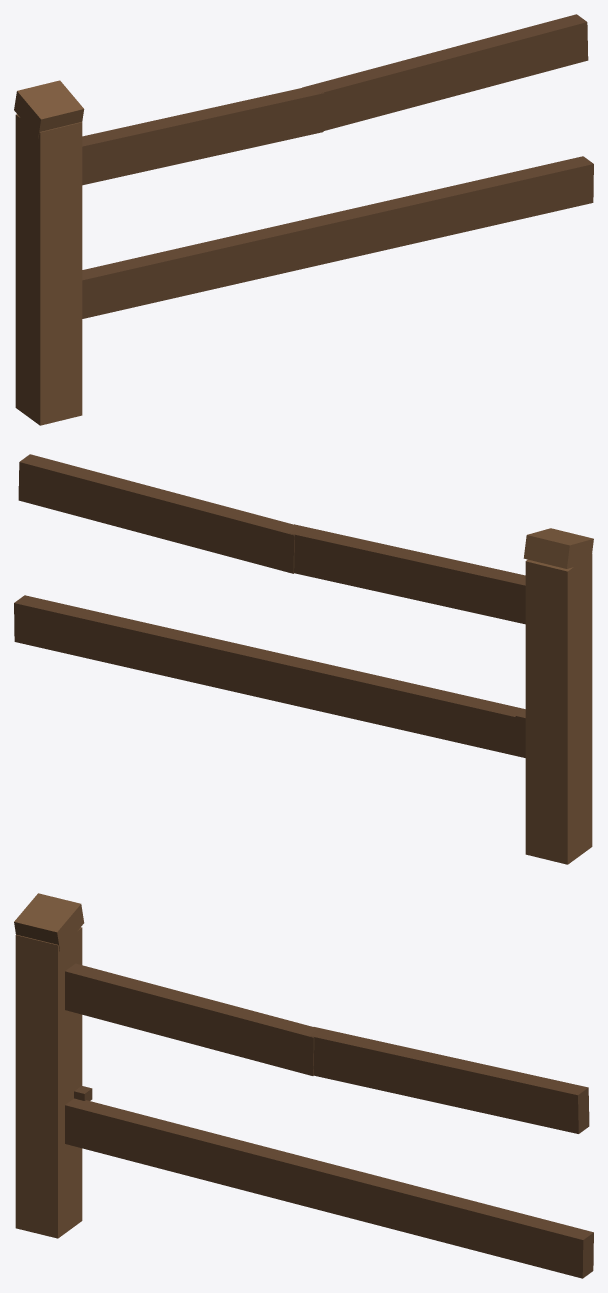
Rendered from SM_Fence_RusticRail_01_Straight.glb.
3 renders of one model, top to bottom at view 1: azimuth 30°, elevation 25°; view 2: azimuth 150°, elevation 25°; view 3: azimuth 330°, elevation 25°, orthographic.
Visible parts, largest first — view 1: SM_Fence_RusticRail_01_Straight_RailBot, SM_Fence_RusticRail_01_Straight_Post, SM_Fence_RusticRail_01_Straight_RailTop1, SM_Fence_RusticRail_01_Straight_RailTop0, SM_Fence_RusticRail_01_Straight_Post_Cap; view 2: SM_Fence_RusticRail_01_Straight_RailBot, SM_Fence_RusticRail_01_Straight_Post, SM_Fence_RusticRail_01_Straight_RailTop1, SM_Fence_RusticRail_01_Straight_RailTop0, SM_Fence_RusticRail_01_Straight_Post_Cap; view 3: SM_Fence_RusticRail_01_Straight_RailBot, SM_Fence_RusticRail_01_Straight_Post, SM_Fence_RusticRail_01_Straight_RailTop1, SM_Fence_RusticRail_01_Straight_RailTop0, SM_Fence_RusticRail_01_Straight_Post_Cap.
Part boxes in pixels (x1,y1,x2,y2): SM_Fence_RusticRail_01_Straight_RailBot: (82,156,593,318); SM_Fence_RusticRail_01_Straight_Post: (15,114,82,425); SM_Fence_RusticRail_01_Straight_RailTop1: (302,14,588,130); SM_Fence_RusticRail_01_Straight_RailTop0: (82,86,324,185); SM_Fence_RusticRail_01_Straight_Post_Cap: (14,80,84,138); SM_Fence_RusticRail_01_Straight_RailBot: (14,595,525,757); SM_Fence_RusticRail_01_Straight_Post: (525,554,592,864); SM_Fence_RusticRail_01_Straight_RailTop1: (18,454,298,573); SM_Fence_RusticRail_01_Straight_RailTop0: (289,524,525,624); SM_Fence_RusticRail_01_Straight_Post_Cap: (523,528,593,568); SM_Fence_RusticRail_01_Straight_RailBot: (65,1098,593,1278); SM_Fence_RusticRail_01_Straight_Post: (15,927,82,1238); SM_Fence_RusticRail_01_Straight_RailTop1: (309,1027,589,1133); SM_Fence_RusticRail_01_Straight_RailTop0: (65,963,318,1075); SM_Fence_RusticRail_01_Straight_Post_Cap: (14,893,84,951).
Bounding box in the file's own units: 2.12 × 1.15 × 0.1777.
